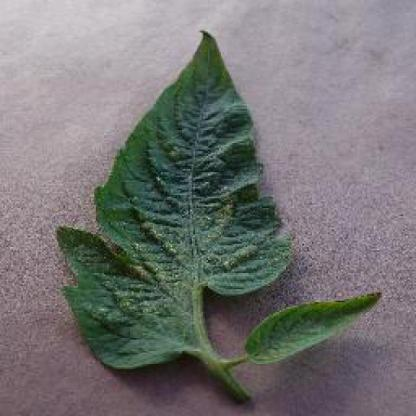Tomato_Spider_Mites: (60, 30, 288, 365)
